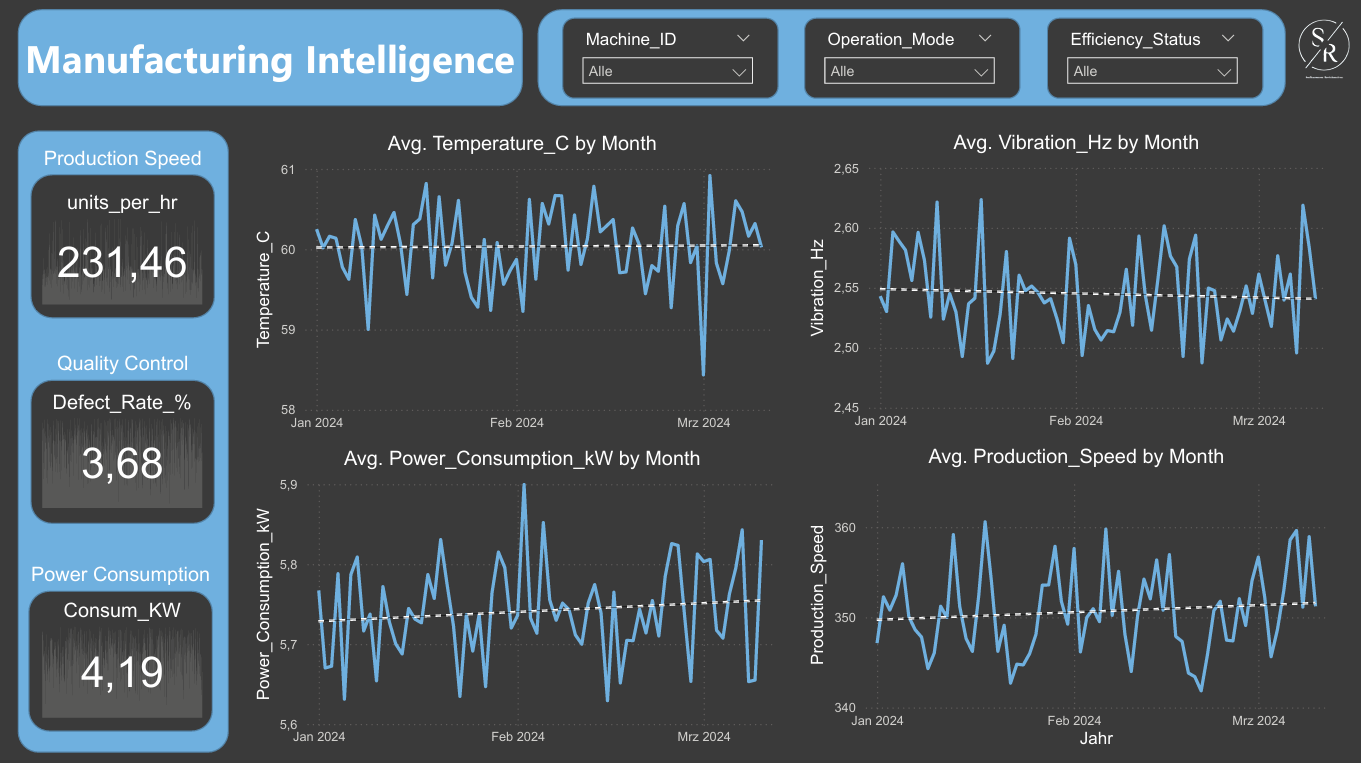

The page's visual inventory and layout, read from the dashboard file:
{"tool":"powerbi","page":{"name":"Time_series","canvas":[1280,720],"ordinal":0},"visuals":[{"type":"shape","box":[18.1,123.7,198,584],"z":0},{"type":"shape","box":[529.4,17.9,202.9,75.9],"z":1000,"group":"g1"},{"type":"shape","title":"Production Speed","box":[29.7,138.6,173.2,161.7],"z":1000},{"type":"shape","box":[506.5,9.9,701.2,90.7],"z":2000},{"type":"slicer","fields":{"Values":["Intelligent Manufacturing.Machine_ID"]},"box":[538.7,25.2,179.3,62.9],"z":2000,"group":"g1"},{"type":"lineChart","title":"Avg. Temperature_C by Month","fields":{"Y":["Avg(Intelligent Manufacturing.Temperature_C)"],"Category":["Intelligent Manufacturing.Timestamp.Variation.Datumshierarchie.Jahr","Intelligent Manufacturing.Timestamp.Variation.Datumshierarchie.Quartal","Intelligent Manufacturing.Timestamp.Variation.Datumshierarchie.Monat","Intelligent Manufacturing.Timestamp.Variation.Datumshierarchie.Tag"]},"box":[235.9,125.4,511.4,288.7],"z":3000},{"type":"lineChart","title":"Avg. Power_Consumption_kW by Month","fields":{"Y":["Avg(Intelligent Manufacturing.Power_Consumption_kW)"],"Category":["Intelligent Manufacturing.Timestamp.Variation.Datumshierarchie.Jahr","Intelligent Manufacturing.Timestamp.Variation.Datumshierarchie.Quartal","Intelligent Manufacturing.Timestamp.Variation.Datumshierarchie.Monat","Intelligent Manufacturing.Timestamp.Variation.Datumshierarchie.Tag"]},"box":[235.9,420.7,511.4,288.7],"z":4000},{"type":"lineChart","title":"Avg. Production_Speed by Month","fields":{"Y":["Avg(Intelligent Manufacturing.Production_Speed_units_per_hr)"],"Category":["Intelligent Manufacturing.Timestamp.Variation.Datumshierarchie.Jahr","Intelligent Manufacturing.Timestamp.Variation.Datumshierarchie.Quartal","Intelligent Manufacturing.Timestamp.Variation.Datumshierarchie.Monat","Intelligent Manufacturing.Timestamp.Variation.Datumshierarchie.Tag"]},"box":[755.6,419.1,511.4,288.7],"z":5000},{"type":"image","box":[1208.4,0,71.5,93.7],"z":6000},{"type":"shape","box":[18.1,9.9,473.5,90.7],"z":7000},{"type":"group","id":"g1","title":"Gruppe 1","box":[529.4,17.9,202.9,75.9],"z":8000},{"type":"group","id":"g2","title":"Gruppe 2","box":[756.4,17.5,202.9,75.9],"z":9000},{"type":"shape","box":[756.4,17.5,202.9,75.9],"z":9000,"group":"g2"},{"type":"group","id":"g3","title":"Gruppe 3","box":[983.5,18.1,202.9,75.9],"z":10000},{"type":"slicer","fields":{"Values":["Intelligent Manufacturing.Operation_Mode"]},"box":[765.7,24.8,179.3,62.9],"z":10000,"group":"g2"},{"type":"shape","box":[983.5,18.1,202.9,75.9],"z":11000,"group":"g3"},{"type":"lineChart","title":"Avg. Vibration_Hz by Month","fields":{"Y":["Avg(Intelligent Manufacturing.Vibration_Hz)"],"Category":["Intelligent Manufacturing.Timestamp.Variation.Datumshierarchie.Jahr","Intelligent Manufacturing.Timestamp.Variation.Datumshierarchie.Quartal","Intelligent Manufacturing.Timestamp.Variation.Datumshierarchie.Monat","Intelligent Manufacturing.Timestamp.Variation.Datumshierarchie.Tag"]},"box":[755.6,123.7,511.4,288.7],"z":11000},{"type":"slicer","fields":{"Values":["Intelligent Manufacturing.Efficiency_Status"]},"box":[992.8,25.4,179.3,62.9],"z":12000,"group":"g3"},{"type":"shape","title":"Power Consumption","box":[28,529.6,173.2,158.4],"z":12000},{"type":"shape","title":"Quality Control","box":[29.7,331.6,173.2,161.7],"z":13000},{"type":"kpi","title":"units_per_hr","fields":{"Indicator":["Avg(Intelligent Manufacturing.Production_Speed_units_per_hr)"],"TrendLine":["Intelligent Manufacturing.Timestamp"]},"box":[36.3,181.5,160,110.5],"z":14000},{"type":"kpi","title":"Defect_Rate_%","fields":{"Indicator":["Sum(Intelligent Manufacturing.Quality_Control_Defect_Rate_%)"],"TrendLine":["Intelligent Manufacturing.Timestamp"]},"box":[36.3,367.9,160,115.5],"z":15000},{"type":"kpi","title":"Consum_KW","fields":{"Indicator":["Avg(Intelligent Manufacturing.Power_Consumption_kW)"],"TrendLine":["Intelligent Manufacturing.Timestamp"]},"box":[36.3,564.2,160,115.5],"z":16000}]}

Visuals, with their boxes in screenshot pixels (x1, y1, x2, y2), scaled from the page's 1280x720 canvas onto the 1361x763 screenshot:
shape: (19, 131, 230, 750)
shape: (563, 19, 779, 99)
"Production Speed" shape: (32, 147, 216, 318)
shape: (539, 10, 1284, 107)
slicer - Intelligent Manufacturing.Machine_ID: (573, 27, 763, 93)
"Avg. Temperature_C by Month" lineChart: (251, 133, 795, 439)
"Avg. Power_Consumption_kW by Month" lineChart: (251, 446, 795, 752)
"Avg. Production_Speed by Month" lineChart: (803, 444, 1347, 750)
image: (1285, 0, 1360, 99)
shape: (19, 10, 523, 107)
"Gruppe 1" group: (563, 19, 779, 99)
"Gruppe 2" group: (804, 19, 1020, 99)
shape: (804, 19, 1020, 99)
"Gruppe 3" group: (1046, 19, 1261, 100)
slicer - Intelligent Manufacturing.Operation_Mode: (814, 26, 1005, 93)
shape: (1046, 19, 1261, 100)
"Avg. Vibration_Hz by Month" lineChart: (803, 131, 1347, 437)
slicer - Intelligent Manufacturing.Efficiency_Status: (1056, 27, 1246, 94)
"Power Consumption" shape: (30, 561, 214, 729)
"Quality Control" shape: (32, 351, 216, 523)
"units_per_hr" kpi: (39, 192, 209, 309)
"Defect_Rate_%" kpi: (39, 390, 209, 512)
"Consum_KW" kpi: (39, 598, 209, 720)
